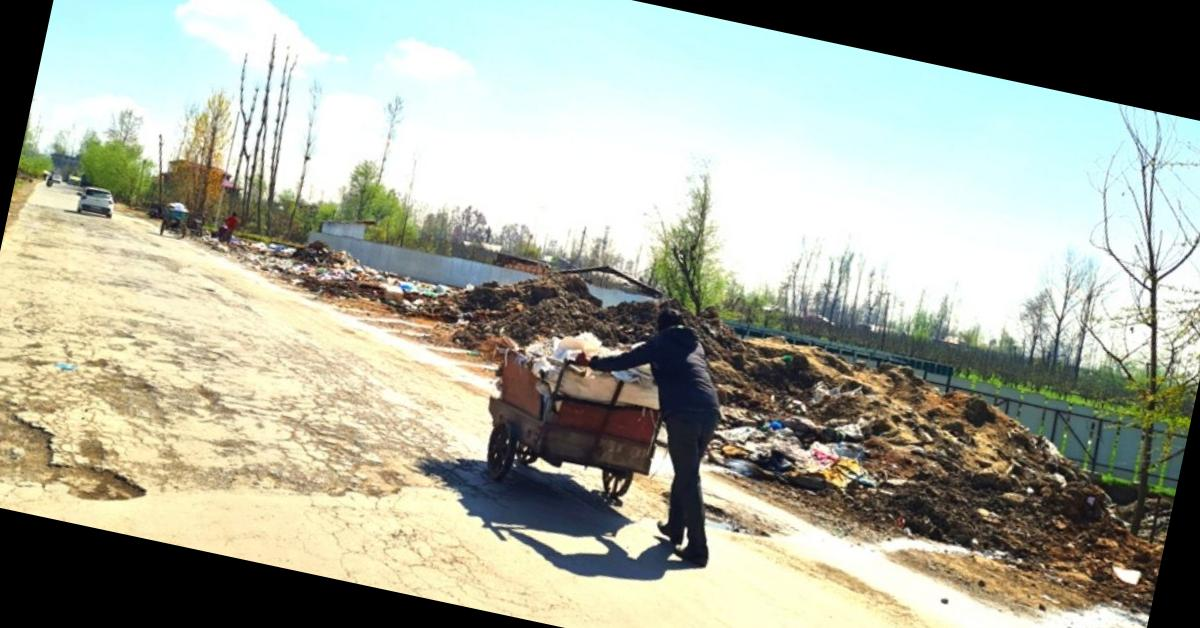road: (0, 183, 1090, 628)
